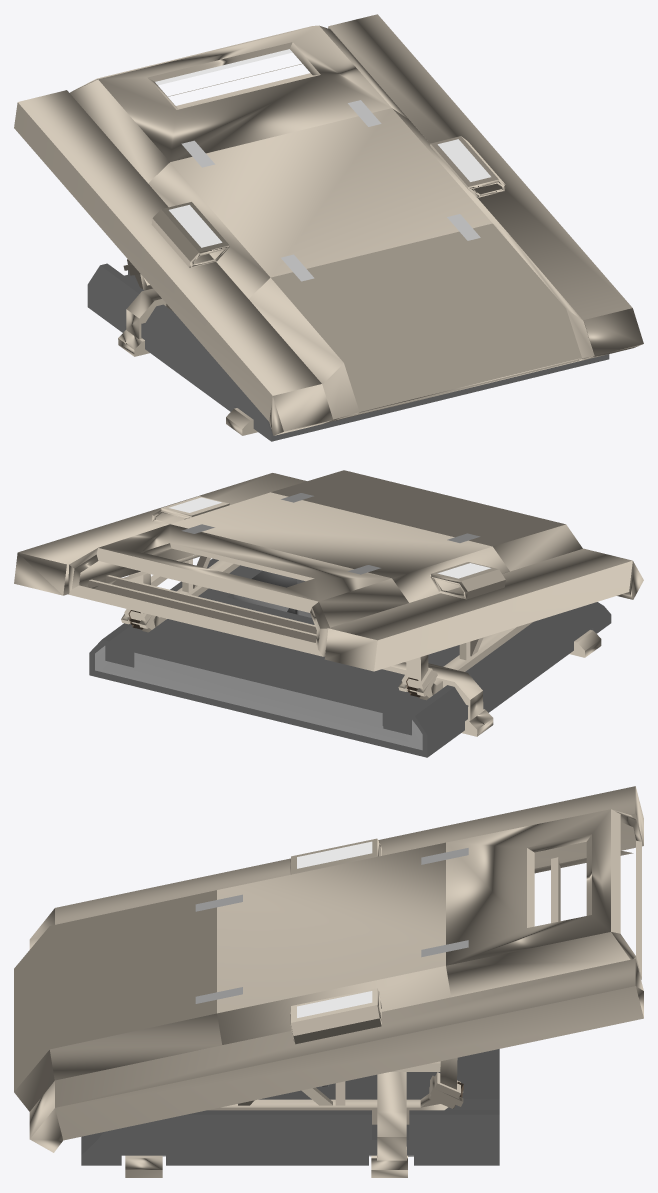
Rendered from barrier_b2_04x05x02.glb.
The picture shows the model from 3 angles, top to bottom: view 1: azimuth 30°, elevation 25°; view 2: azimuth 150°, elevation 25°; view 3: azimuth 270°, elevation 25°; orthographic projection. The views are drawn at different scales.
Bounding box in the file's own units: 3.99 × 1.97 × 5.32.
